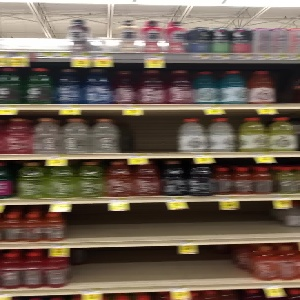void: (71, 245, 247, 293), (66, 202, 288, 239), (120, 108, 179, 158)
